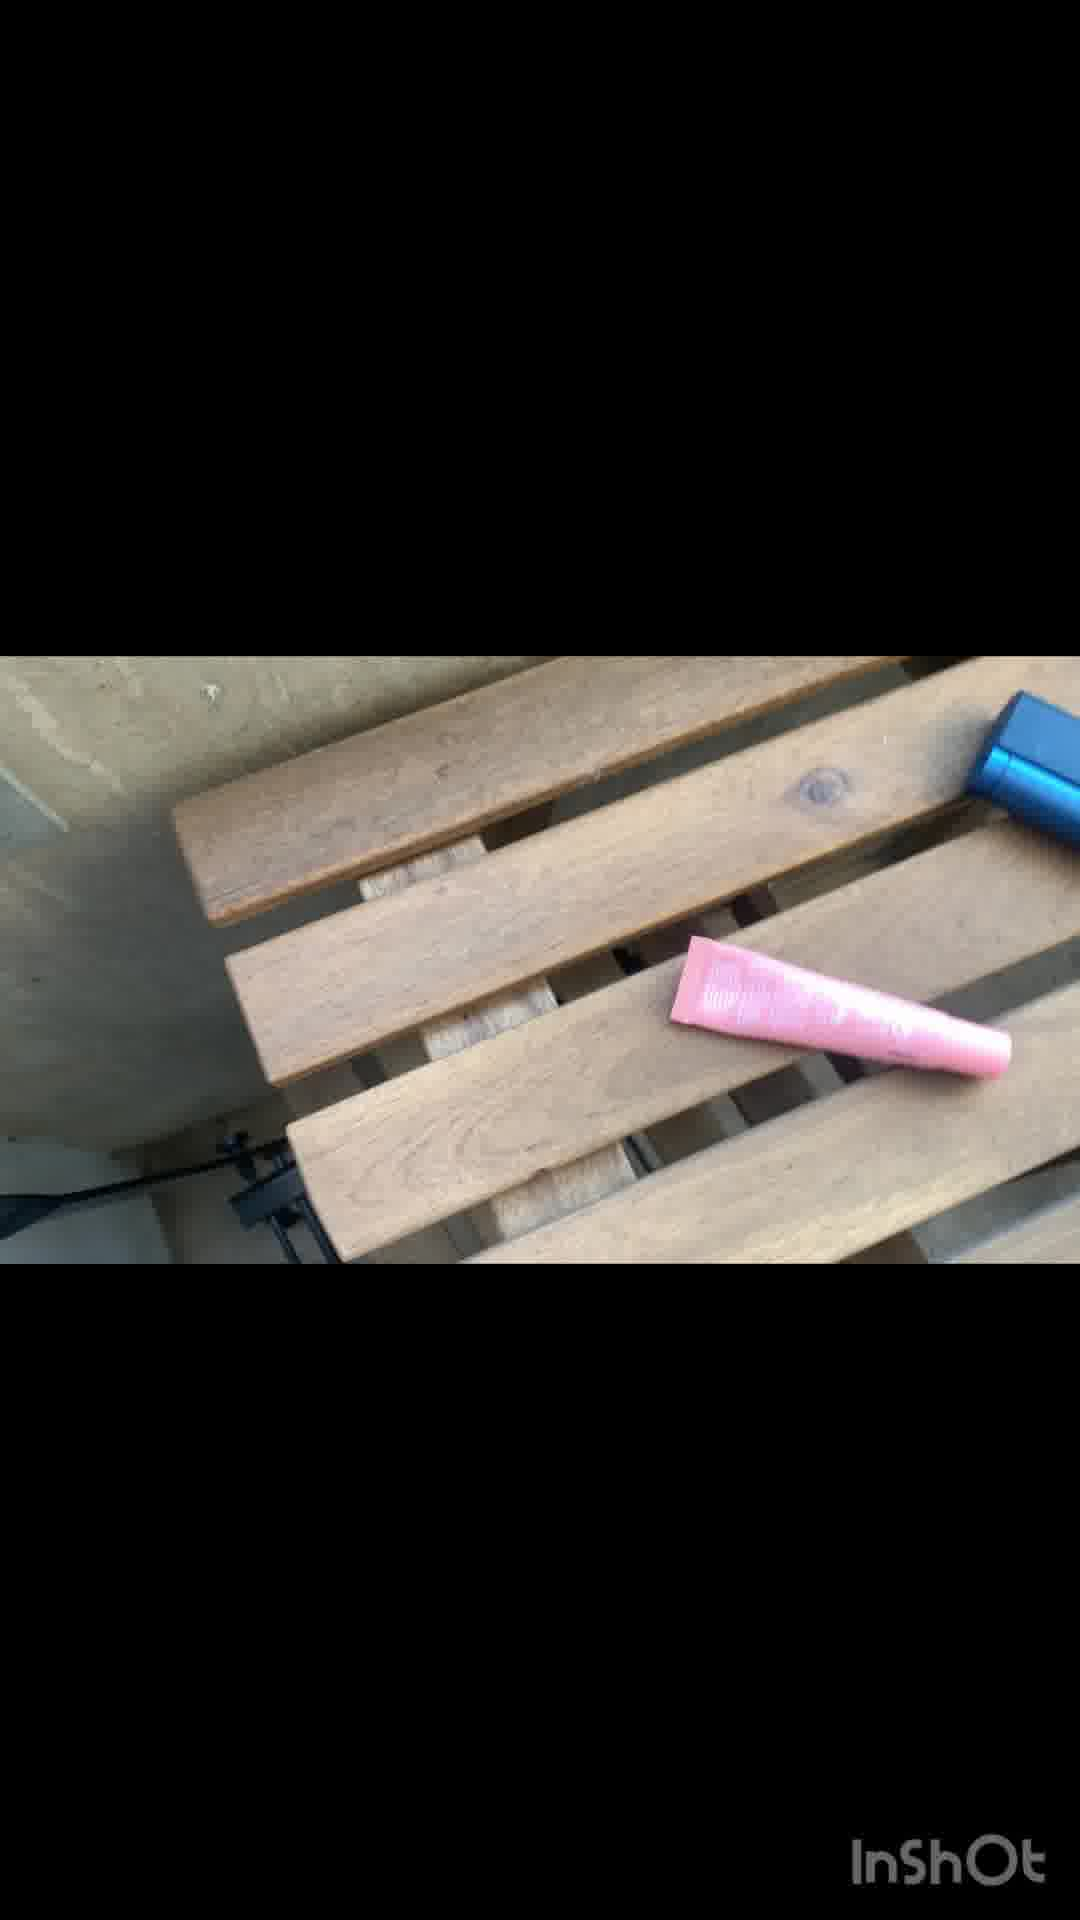glo: (969, 680, 1080, 852)
lip balm: (665, 928, 1018, 1093)
